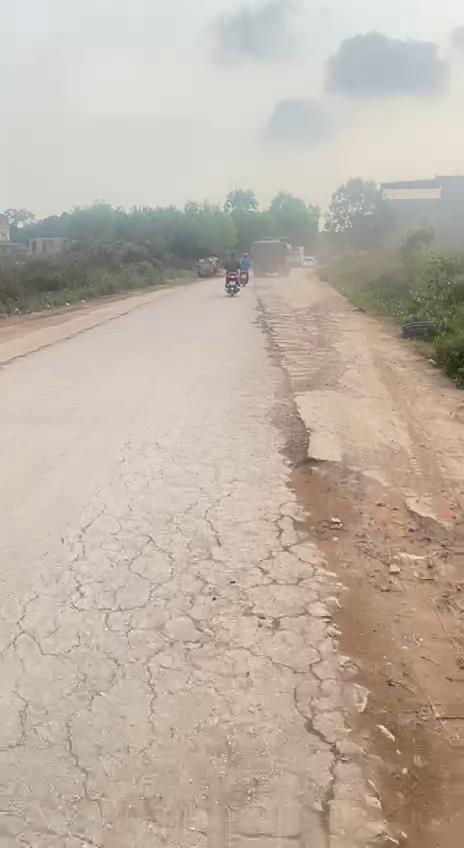pothole: (270, 435, 364, 552)
